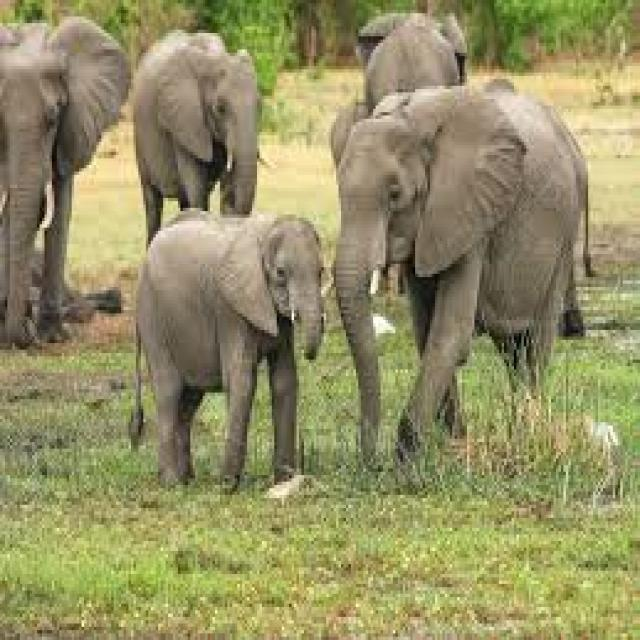Elephant: (329, 76, 593, 472), (126, 204, 329, 492), (0, 13, 128, 346), (131, 26, 267, 251)
